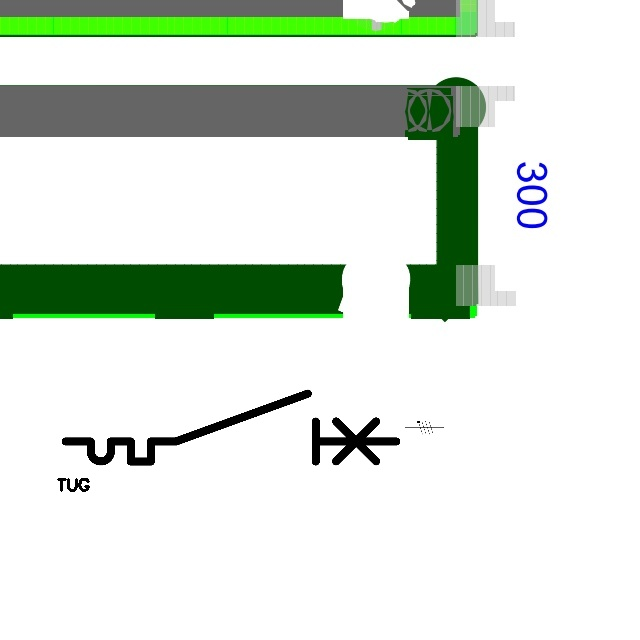interruptor_termomagnetico: (57, 385, 405, 470)
